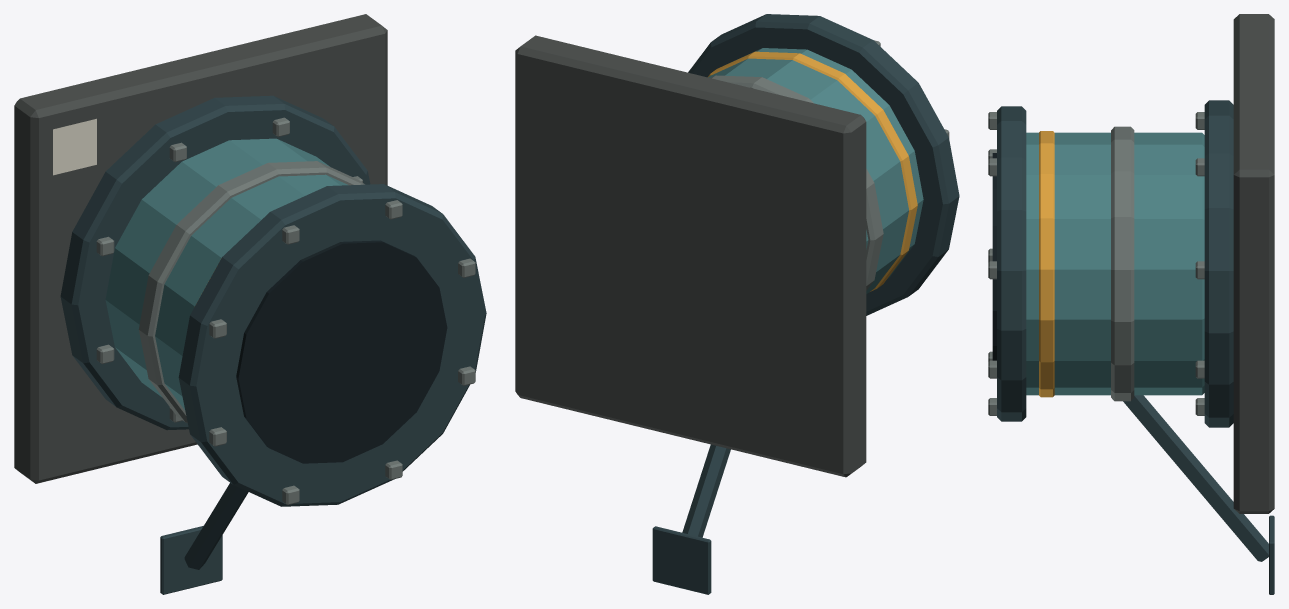
The model's file is outlet-pipe.glb.
3 views of the same model, side by side, from view 1: azimuth 30°, elevation 25°; view 2: azimuth 150°, elevation 25°; view 3: azimuth 270°, elevation 25° (orthographic). The views are drawn at different scales.
Parts seen in each view (by area): view 1: outlet-pipe__outlet-pipe__steel, outlet-pipe__outlet-pipe__concrete-dark, outlet-pipe__outlet-pipe__rubber, outlet-pipe__outlet-pipe__petrol, outlet-pipe__outlet-pipe__hardware, outlet-pipe__outlet-pipe__decal-ivory; view 2: outlet-pipe__outlet-pipe__concrete-dark, outlet-pipe__outlet-pipe__steel, outlet-pipe__outlet-pipe__petrol, outlet-pipe__outlet-pipe__amber, outlet-pipe__outlet-pipe__hardware; view 3: outlet-pipe__outlet-pipe__petrol, outlet-pipe__outlet-pipe__steel, outlet-pipe__outlet-pipe__concrete-dark, outlet-pipe__outlet-pipe__hardware, outlet-pipe__outlet-pipe__amber, outlet-pipe__outlet-pipe__rubber.
Boxes of the visible parts, left/top/right/bottom form: outlet-pipe__outlet-pipe__steel: left=60, top=95, right=486, bottom=594; outlet-pipe__outlet-pipe__concrete-dark: left=14, top=14, right=387, bottom=483; outlet-pipe__outlet-pipe__rubber: left=236, top=240, right=447, bottom=463; outlet-pipe__outlet-pipe__petrol: left=105, top=138, right=348, bottom=410; outlet-pipe__outlet-pipe__hardware: left=96, top=117, right=475, bottom=504; outlet-pipe__outlet-pipe__decal-ivory: left=53, top=118, right=96, bottom=175; outlet-pipe__outlet-pipe__concrete-dark: left=515, top=35, right=866, bottom=477; outlet-pipe__outlet-pipe__steel: left=652, top=14, right=959, bottom=594; outlet-pipe__outlet-pipe__petrol: left=708, top=48, right=923, bottom=293; outlet-pipe__outlet-pipe__amber: left=707, top=51, right=917, bottom=291; outlet-pipe__outlet-pipe__hardware: left=711, top=40, right=949, bottom=290; outlet-pipe__outlet-pipe__petrol: left=1026, top=132, right=1204, bottom=395; outlet-pipe__outlet-pipe__steel: left=997, top=100, right=1274, bottom=594; outlet-pipe__outlet-pipe__concrete-dark: left=1233, top=14, right=1274, bottom=513; outlet-pipe__outlet-pipe__hardware: left=988, top=112, right=1204, bottom=415; outlet-pipe__outlet-pipe__amber: left=1039, top=131, right=1054, bottom=397; outlet-pipe__outlet-pipe__rubber: left=992, top=153, right=996, bottom=360.
Size of the model in its own units: 1.3 by 1.85 by 0.98.
